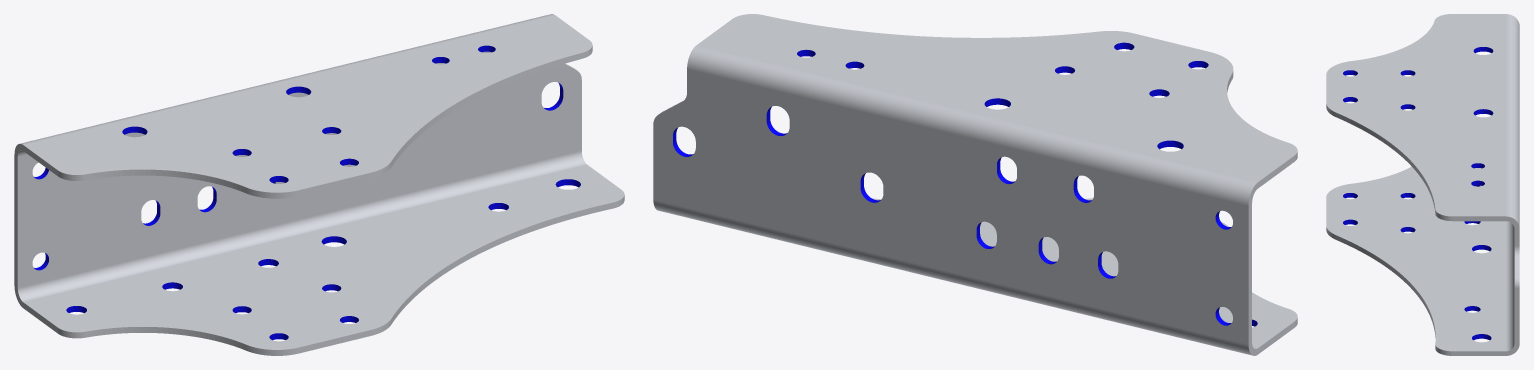
The picture shows the model from 3 angles, left to right: view 1: azimuth 30°, elevation 25°; view 2: azimuth 150°, elevation 25°; view 3: azimuth 270°, elevation 25°; orthographic projection. The views are drawn at different scales.
Parts seen in each view (by area): view 1: Node1, Node2; view 2: Node1, Node2; view 3: Node1, Node2.
Boxes of the visible parts, left/top/right/bottom form: Node1: left=14, top=14, right=624, bottom=355; Node2: left=34, top=45, right=580, bottom=340; Node1: left=653, top=14, right=1297, bottom=355; Node2: left=673, top=42, right=1257, bottom=326; Node1: left=1326, top=14, right=1519, bottom=355; Node2: left=1343, top=47, right=1493, bottom=340.
Size of the model in its own units: 441 by 122 by 168.
